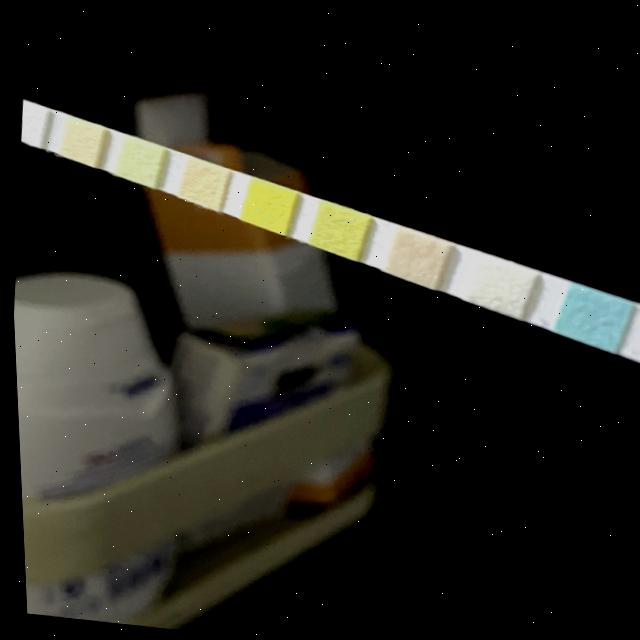Bilirubin: (470, 260, 519, 306)
Blood: (243, 182, 287, 226)
Glucose: (559, 291, 616, 340)
Ketone: (388, 232, 436, 279)
Nitrite: (18, 104, 45, 141)
Protein: (117, 140, 157, 181)
SpGravity: (313, 206, 360, 251)
Urobilinogen: (62, 122, 100, 160)
pH: (183, 162, 217, 202)
